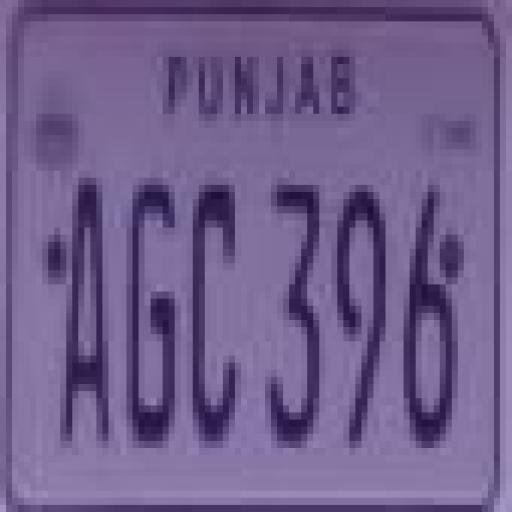3: (262, 169, 333, 461)
6: (404, 169, 460, 461)
9: (338, 170, 388, 458)
A: (58, 174, 114, 459)
C: (184, 160, 248, 451)
G: (122, 171, 182, 461)
